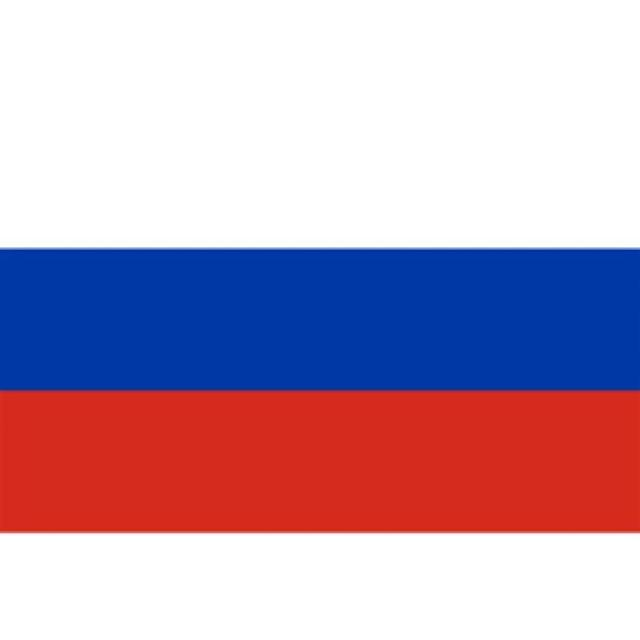russia: (18, 11, 623, 540)
